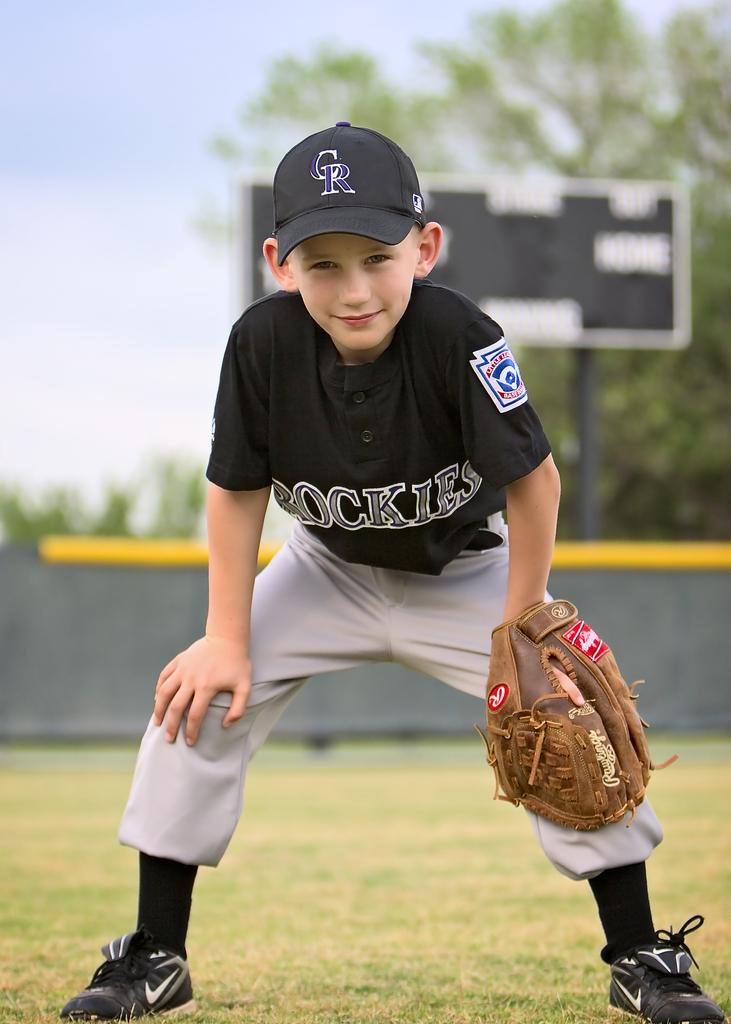Hat: (274, 119, 426, 266)
